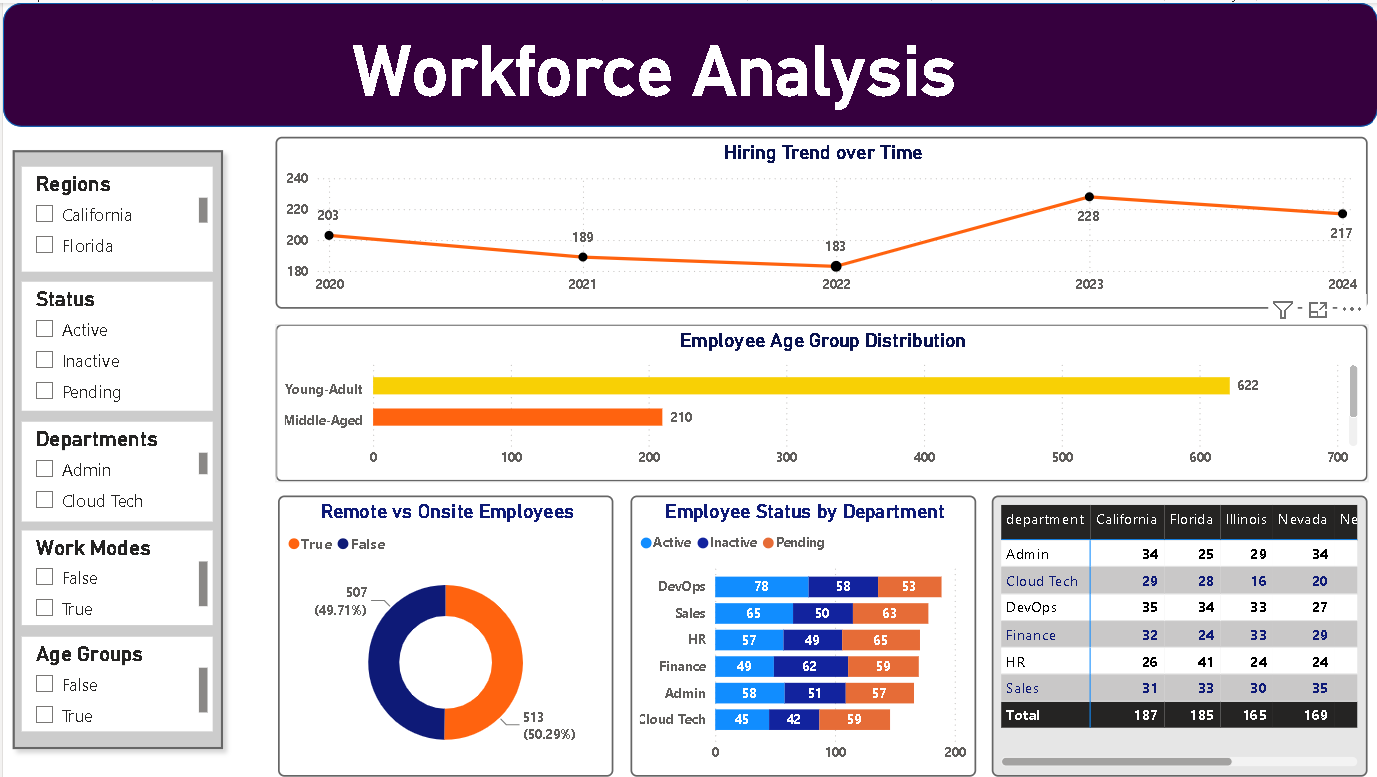

What the dashboard file says about the page in this screenshot:
{"tool":"powerbi","page":{"name":"Page 4","canvas":[1280,720],"ordinal":3},"visuals":[{"type":"shape","box":[0,0,1280,115.3],"z":0},{"type":"textbox","box":[319.4,1.2,666.4,127.3],"z":1000},{"type":"lineChart","title":"Hiring Trend over Time","fields":{"Category":["public employee_details.join_date.Variation.Date Hierarchy.Year","public employee_details.join_date.Variation.Date Hierarchy.Month"],"Y":["CountNonNull(public employee_details.employee_id)"]},"box":[253.4,124.9,1015.8,159.7],"z":2000},{"type":"clusteredBarChart","title":"Employee Age Group Distribution","fields":{"Category":["public employee_details.age_group"],"Y":["CountNonNull(public employee_details.employee_id)"]},"box":[253.4,299,1015.8,146.5],"z":3000},{"type":"donutChart","title":"Remote vs Onsite Employees","fields":{"Category":["public employee_details.remote_work"],"Y":["CountNonNull(public employee_details.employee_id)"]},"box":[255.8,458.2,312.2,261.8],"z":4000},{"type":"barChart","title":"Employee Status by Department","fields":{"Category":["public employee_details.department"],"Y":["CountNonNull(public employee_details.employee_id)"],"Series":["public employee_details.status"]},"box":[583.6,458.7,321.8,261.8],"z":5000},{"type":"pivotTable","fields":{"Rows":["public employee_details.department"],"Columns":["public employee_details.region"],"Values":["CountNonNull(public employee_details.employee_id)"]},"box":[919.8,458.7,349.4,261.8],"z":6000},{"type":"shape","box":[0,128.5,213.7,575.2],"z":7000},{"type":"slicer","fields":{"Values":["public employee_details.region"]},"box":[18,152.5,177.7,97.3],"z":8000},{"type":"slicer","fields":{"Values":["public employee_details.status"]},"box":[18,259.4,177.7,120.1],"z":9000},{"type":"slicer","fields":{"Values":["public employee_details.department"]},"box":[18,389,177.7,92.5],"z":10000},{"type":"slicer","fields":{"Values":["public employee_details.remote_work"]},"box":[18,491.1,177.7,87.7],"z":11000},{"type":"slicer","fields":{"Values":["public employee_details.remote_work"]},"box":[18,589.6,177.7,87.7],"z":12000}]}

Visuals, with their boxes in screenshot pixels (x1, y1, x2, y2), scaled from the page's 1280x720 canvas onto the 1377x777 screenshot:
shape: locate(0, 0, 1376, 124)
textbox: locate(344, 1, 1061, 139)
"Hiring Trend over Time" lineChart: locate(273, 135, 1365, 307)
"Employee Age Group Distribution" clusteredBarChart: locate(273, 323, 1365, 481)
"Remote vs Onsite Employees" donutChart: locate(275, 494, 611, 776)
"Employee Status by Department" barChart: locate(628, 495, 974, 776)
pivotTable - public employee_details.department x public employee_details.region: locate(990, 495, 1365, 776)
shape: locate(0, 139, 230, 759)
slicer - public employee_details.region: locate(19, 165, 211, 270)
slicer - public employee_details.status: locate(19, 280, 211, 410)
slicer - public employee_details.department: locate(19, 420, 211, 520)
slicer - public employee_details.remote_work: locate(19, 530, 211, 625)
slicer - public employee_details.remote_work: locate(19, 636, 211, 731)
